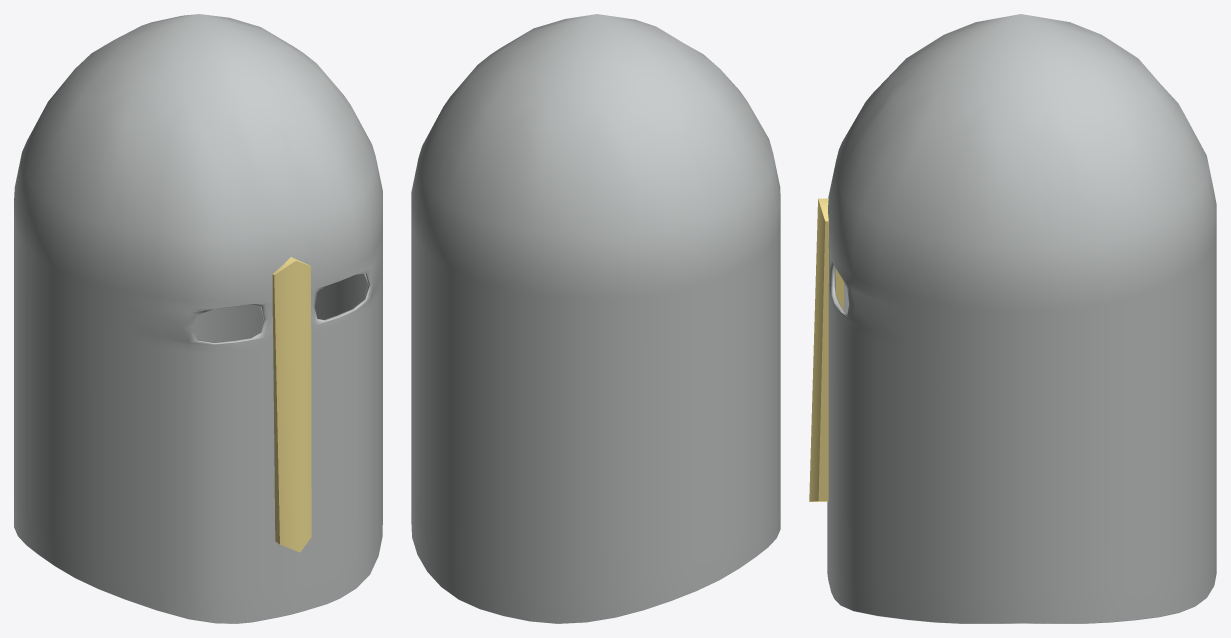
Rendered from Helmet.glb.
3 views of the same model, side by side, from view 1: azimuth 30°, elevation 25°; view 2: azimuth 150°, elevation 25°; view 3: azimuth 270°, elevation 25° (orthographic). The views are drawn at different scales.
Parts seen in each view (by area): view 1: pCylinder4; view 2: pCylinder4; view 3: pCylinder4.
Boxes of the visible parts, <box> form: pCylinder4: <box>14,14,382,623</box>; pCylinder4: <box>411,14,780,623</box>; pCylinder4: <box>809,14,1216,623</box>.
Size of the model in its own units: 6.3 by 10.03 by 6.62.
1 material, 1 textured.
